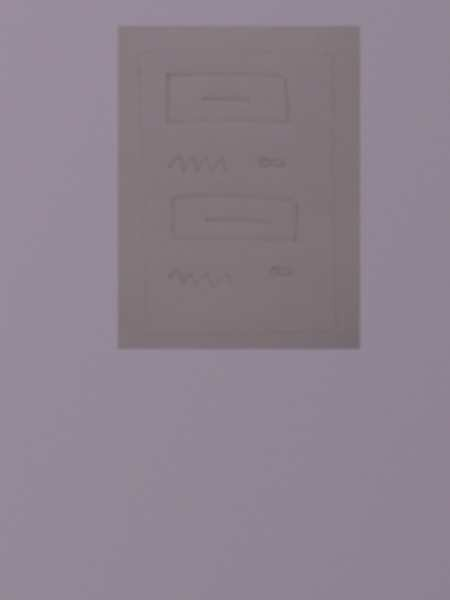button: (161, 68, 294, 129), (165, 191, 304, 247)
switch: (255, 153, 292, 176), (269, 261, 297, 283)
text: (163, 264, 238, 298), (163, 151, 230, 181)
